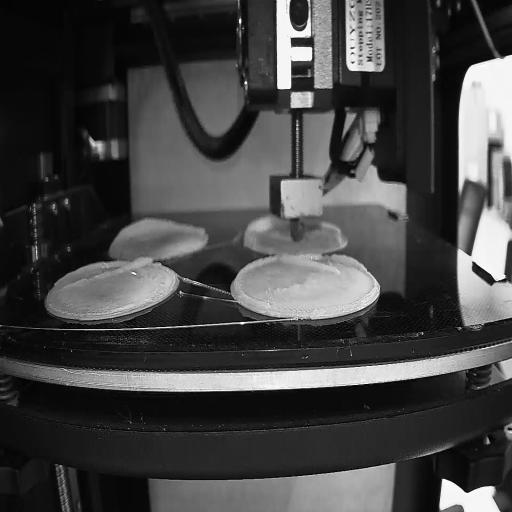over_extrusion: (111, 216, 206, 248), (64, 255, 153, 287), (233, 255, 278, 311), (281, 252, 367, 276), (240, 213, 276, 246)
